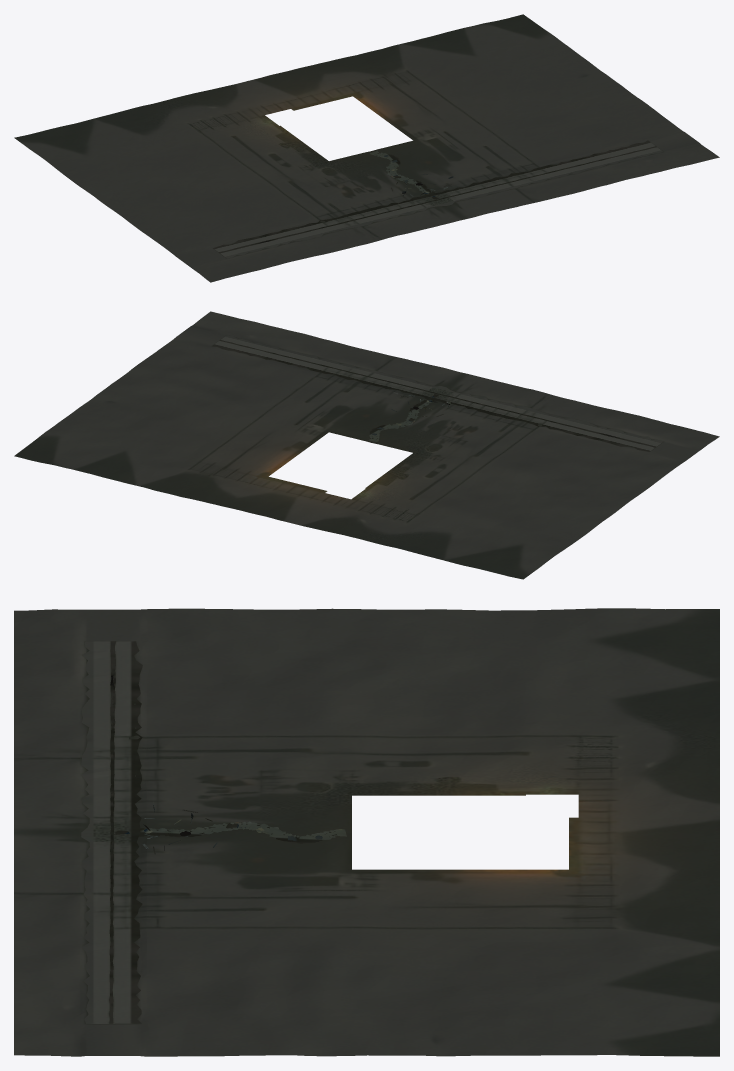
File: grounds_terrain.glb
3 views of the same model, one above another, from view 1: azimuth 30°, elevation 25°; view 2: azimuth 150°, elevation 25°; view 3: azimuth 270°, elevation 25° (orthographic). The views are drawn at different scales.
Visible parts, largest first — view 1: CHUNK_grounds_terrain; view 2: CHUNK_grounds_terrain; view 3: CHUNK_grounds_terrain.
Part boxes in pixels (x1,y1,x2,y2): CHUNK_grounds_terrain: (14,14,719,282); CHUNK_grounds_terrain: (14,311,719,579); CHUNK_grounds_terrain: (14,608,719,1056).
Bounding box in the file's own units: 140 × 1.82 × 93.6.
1 material, 1 textured.
